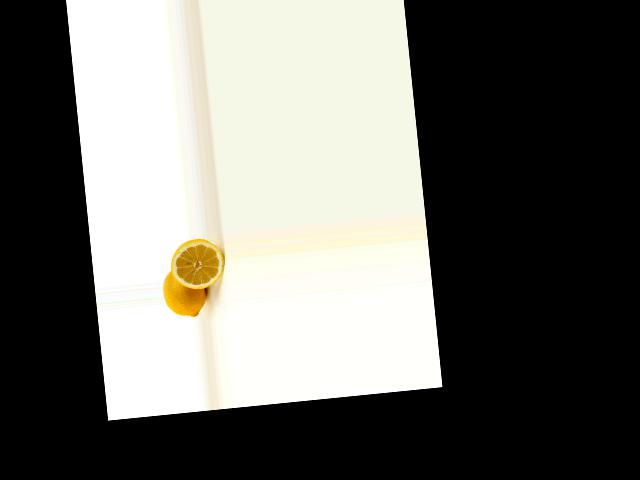lemon: (161, 265, 213, 321)
